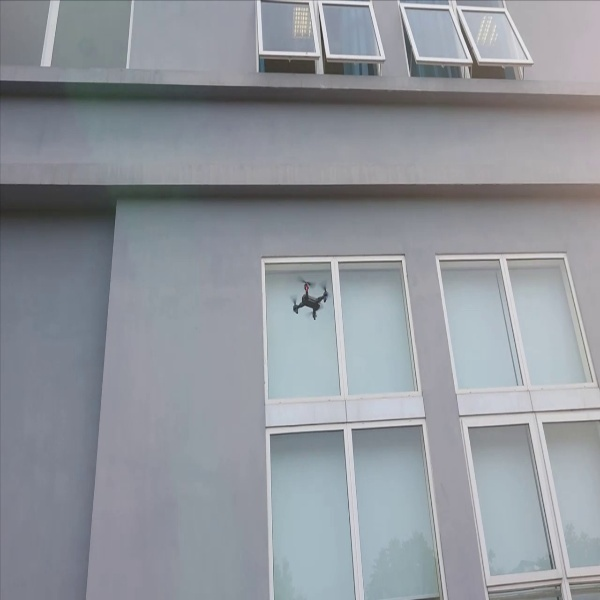drone: (283, 273, 333, 322)
